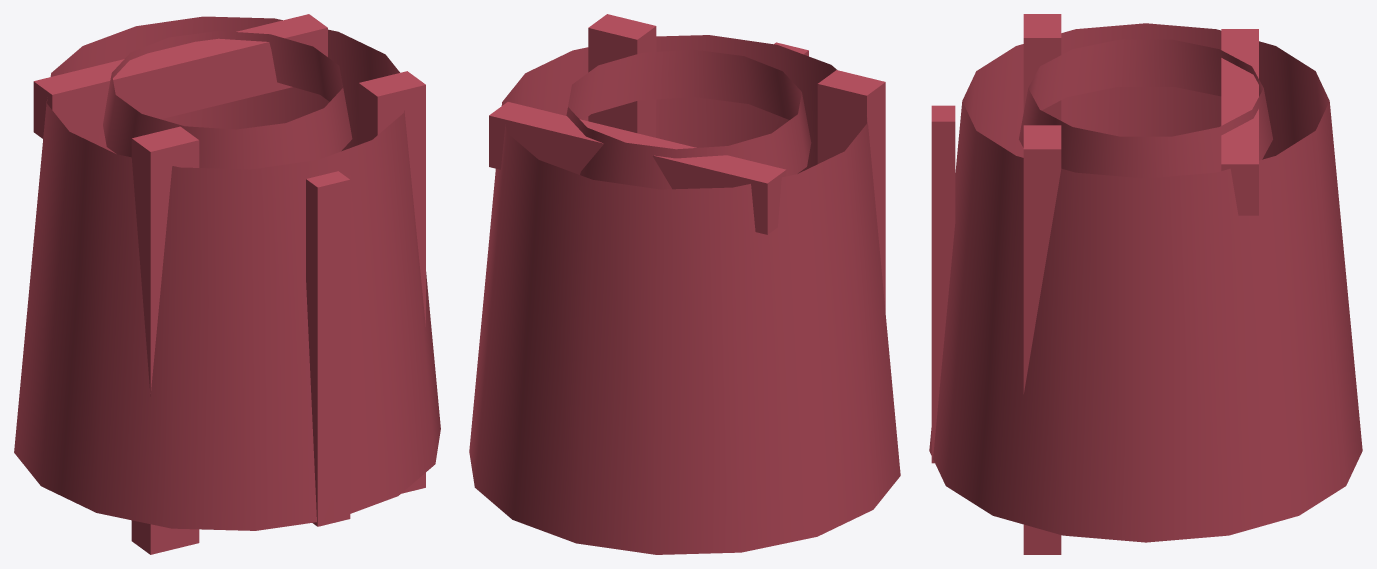
The model's file is sherwani-maroon.glb.
3 renders of one model, left to right at view 1: azimuth 30°, elevation 25°; view 2: azimuth 150°, elevation 25°; view 3: azimuth 270°, elevation 25°, orthographic.
Parts seen in each view (by area): view 1: SherwaniOutfitMesh; view 2: SherwaniOutfitMesh; view 3: SherwaniOutfitMesh.
Boxes of the visible parts, <box> form: SherwaniOutfitMesh: <box>14,14,440,554</box>; SherwaniOutfitMesh: <box>469,14,900,554</box>; SherwaniOutfitMesh: <box>929,14,1362,554</box>.
Bounding box in the file's own units: 0.92 × 0.95 × 0.92.
